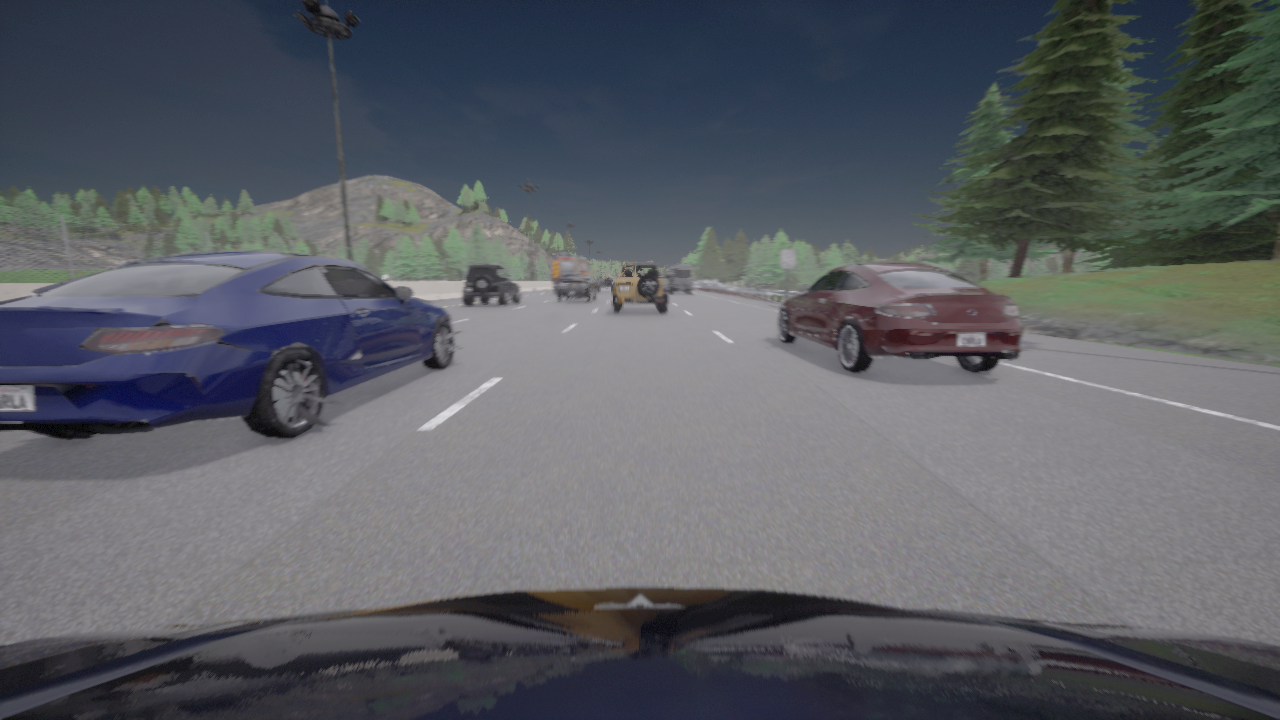cyclist: (0, 588, 1279, 719), (0, 251, 462, 438), (777, 262, 1023, 372), (612, 262, 667, 313), (462, 264, 520, 305), (552, 252, 591, 284), (556, 274, 597, 302), (666, 264, 693, 293), (594, 274, 614, 291), (553, 283, 557, 293)
